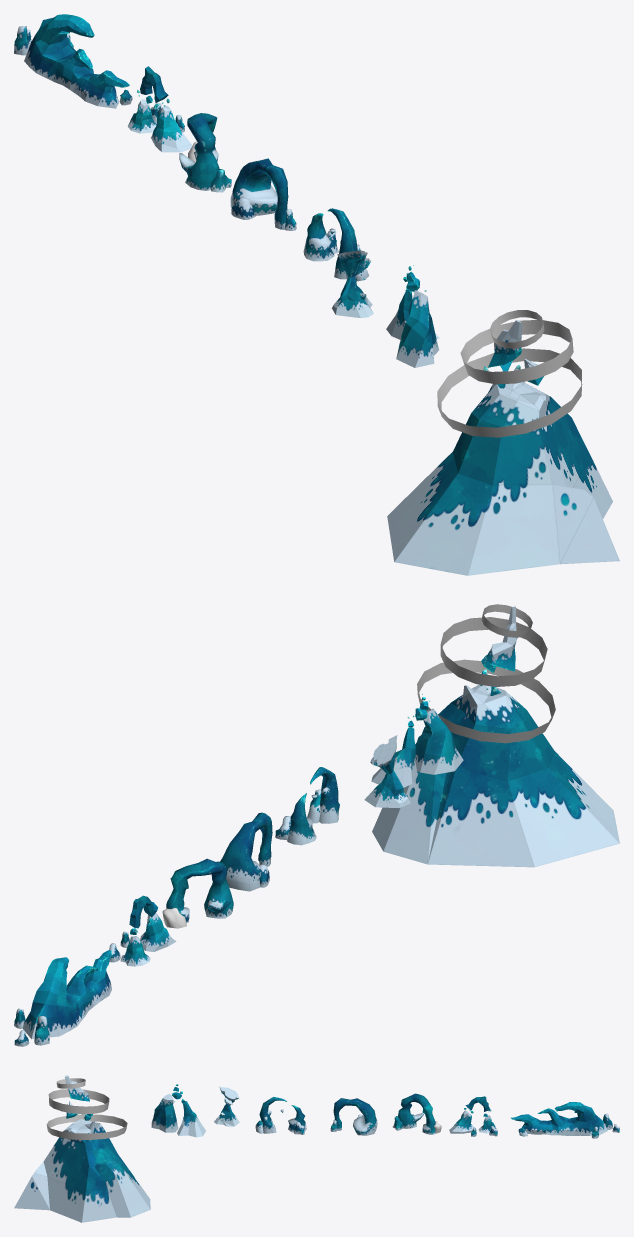
The model's file is snow_mountains_LandMarks.fbx.
3 renders of one model, top to bottom at view 1: azimuth 30°, elevation 25°; view 2: azimuth 150°, elevation 25°; view 3: azimuth 270°, elevation 25°, orthographic. The views are drawn at different scales.
Visible parts, largest first — view 1: Large mountain a, Pikes, cloud 3, cloud 2, Arch2, Mountain 1a, Arch3, Mountain 2, Arch 4.2, Arch1.2, Large mountain b, cloud 1 (+1 smaller); view 2: Large mountain a, Pikes, Arch2, cloud 3, cloud 2, Arch3, Mountain 1a, Mountain 2, Mountain 1b, Arch1.1, Large mountain b, Arch1.2 (+2 smaller); view 3: Large mountain a, Pikes, cloud 3, Arch2, Arch3, cloud 2, Mountain 1a, Mountain 1b, Mountain 2, Arch 4.2, Large mountain b, Arch1.2 (+2 smaller).
Boxes of the visible parts, box(x1,y1,x2,y2) form: Large mountain a: box(387, 366, 619, 575); Pikes: box(24, 14, 129, 108); cloud 3: box(437, 348, 582, 437); cloud 2: box(460, 320, 573, 384); Arch2: box(230, 158, 288, 229); Mountain 1a: box(396, 290, 438, 367); Arch3: box(179, 113, 219, 190); Mountain 2: box(332, 250, 373, 317); Arch 4.2: box(151, 105, 192, 152); Arch1.2: box(303, 213, 334, 261); Large mountain b: box(488, 320, 521, 367); cloud 1: box(490, 310, 544, 348); Large mountain a: box(372, 684, 619, 867); Pikes: box(22, 950, 111, 1039); Arch2: box(220, 812, 272, 891); cloud 3: box(417, 659, 555, 743); cloud 2: box(440, 617, 547, 686); Arch3: box(163, 858, 233, 922); Mountain 1a: box(415, 708, 463, 774); Mountain 2: box(364, 735, 410, 807); Mountain 1b: box(371, 727, 417, 787); Arch1.1: box(310, 767, 338, 823); Large mountain b: box(486, 606, 517, 671); Arch1.2: box(287, 793, 316, 845); Large mountain a: box(14, 1119, 150, 1222); Pikes: box(511, 1102, 607, 1136); cloud 3: box(46, 1114, 127, 1139); Arch2: box(333, 1098, 377, 1135); Arch3: box(398, 1093, 435, 1134); cloud 2: box(48, 1089, 109, 1114); Mountain 1a: box(151, 1093, 178, 1132); Mountain 1b: box(177, 1101, 205, 1137); Mountain 2: box(214, 1086, 239, 1126); Arch 4.2: box(449, 1110, 473, 1133); Large mountain b: box(65, 1075, 89, 1101); Arch1.2: box(288, 1105, 306, 1132).
Size of the model in its own units: 9298 by 8605 by 39578.
